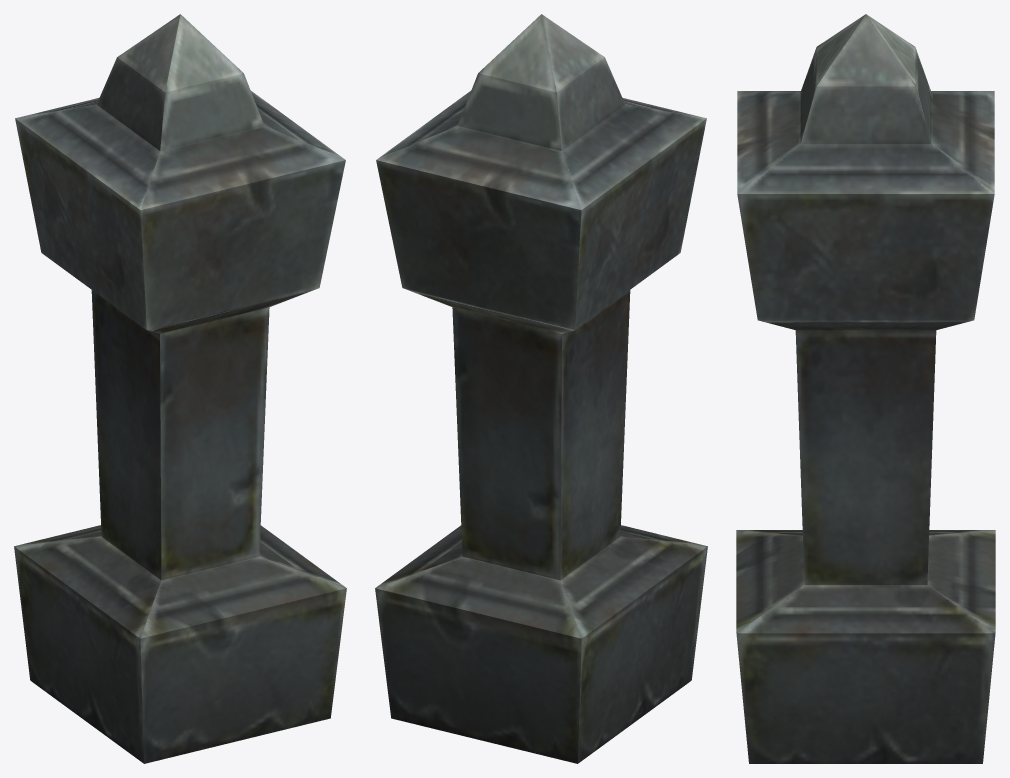
Rendered from F_fushou016.fbx.
3 renders of one model, left to right at view 1: azimuth 30°, elevation 25°; view 2: azimuth 150°, elevation 25°; view 3: azimuth 270°, elevation 25°, orthographic. The views are drawn at different scales.
Parts seen in each view (by area): view 1: F_fushou016; view 2: F_fushou016; view 3: F_fushou016.
Part boxes in pixels (bbox=[...]): F_fushou016: bbox=[14, 14, 346, 763]; F_fushou016: bbox=[375, 14, 707, 763]; F_fushou016: bbox=[736, 14, 995, 763].
Bounding box in the file's own units: 63.69 × 202 × 67.41.
